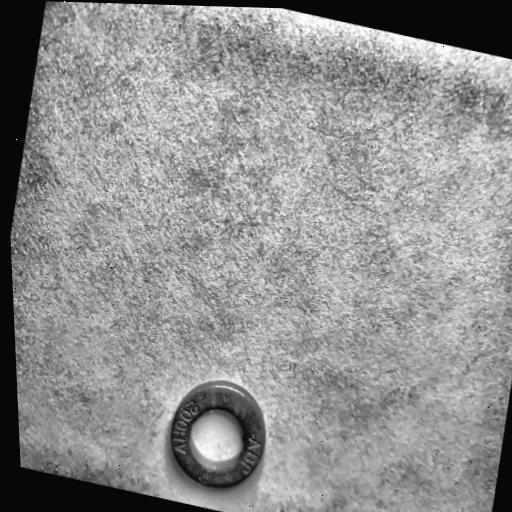Washer: (169, 380, 267, 489)
